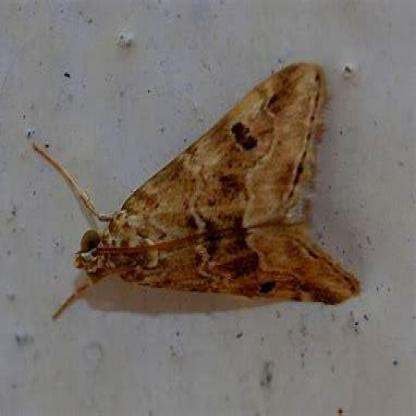Hellula undalis: (22, 51, 376, 333)
